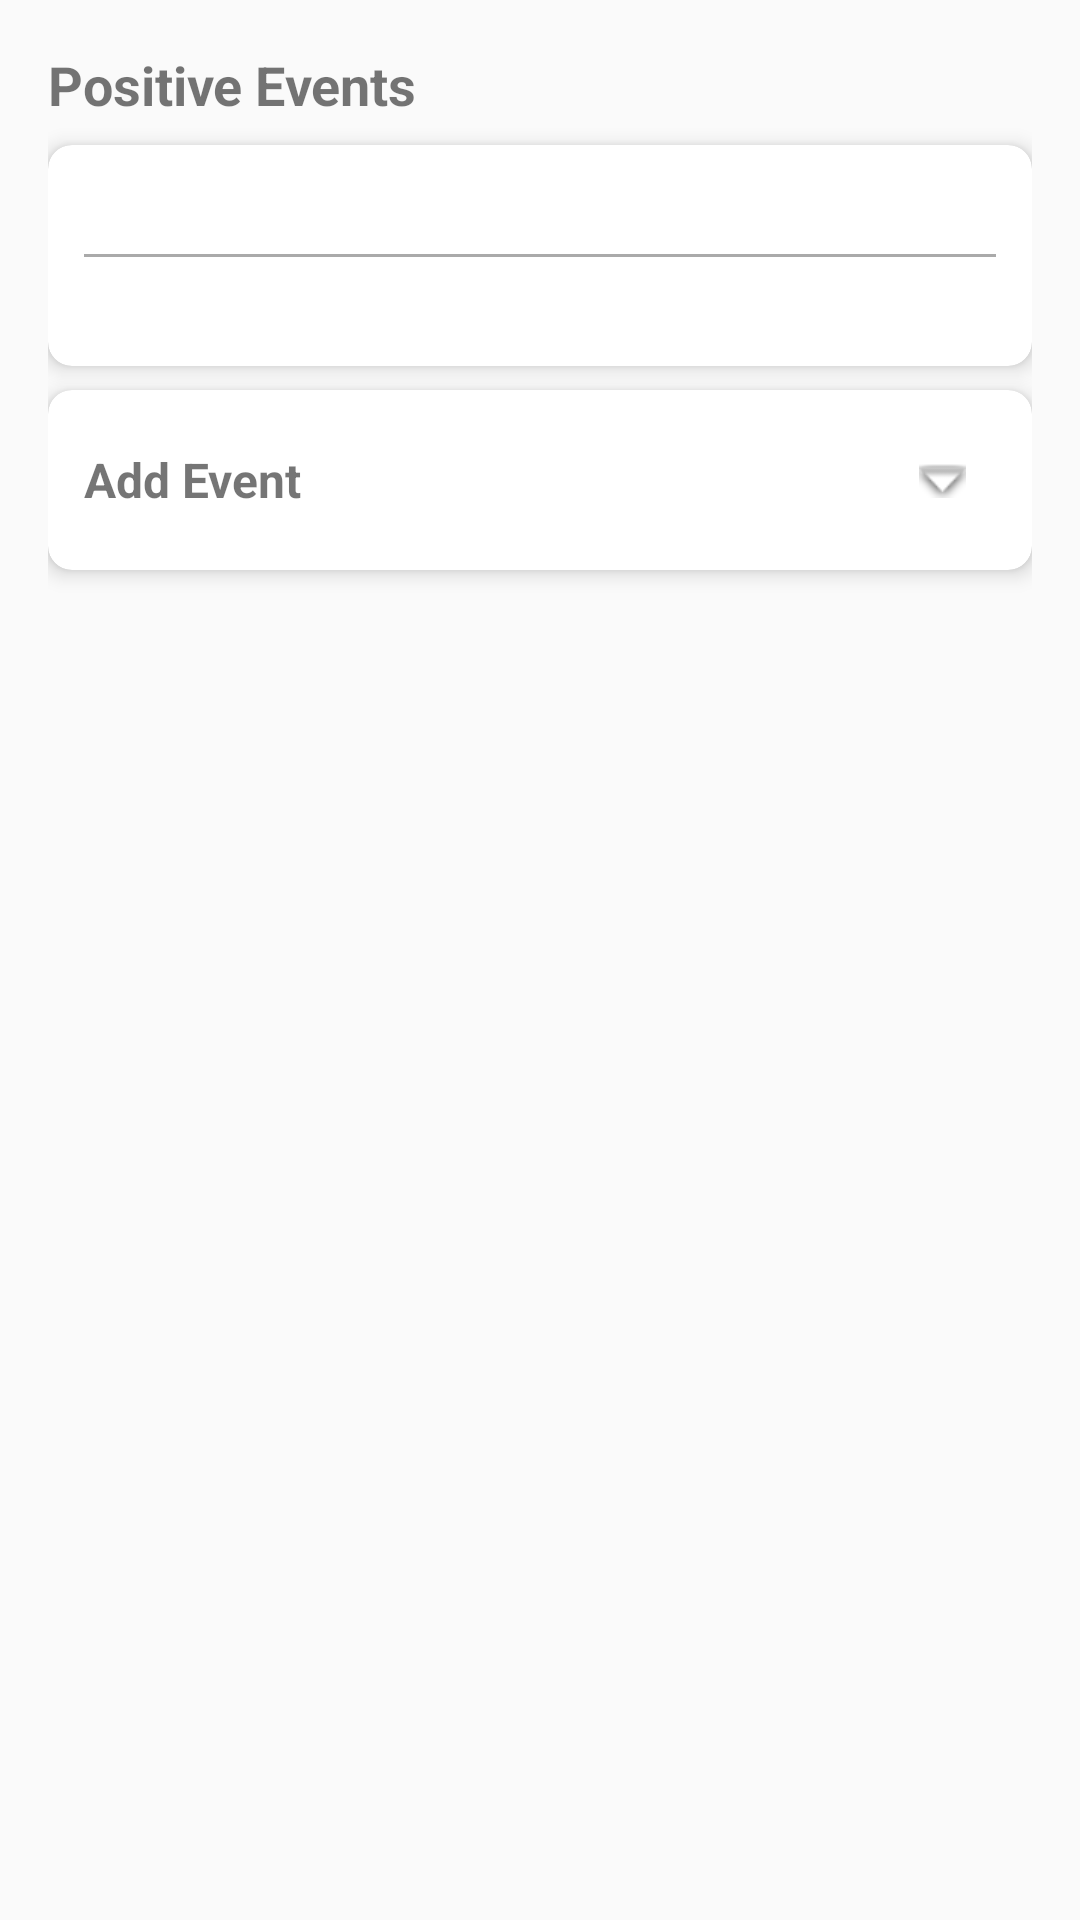

Screen size 1080 x 1920. Icon name, then its box in pixels as (x1, y1, x2, y2):
Toggle add entry form: (919, 465, 966, 497)
